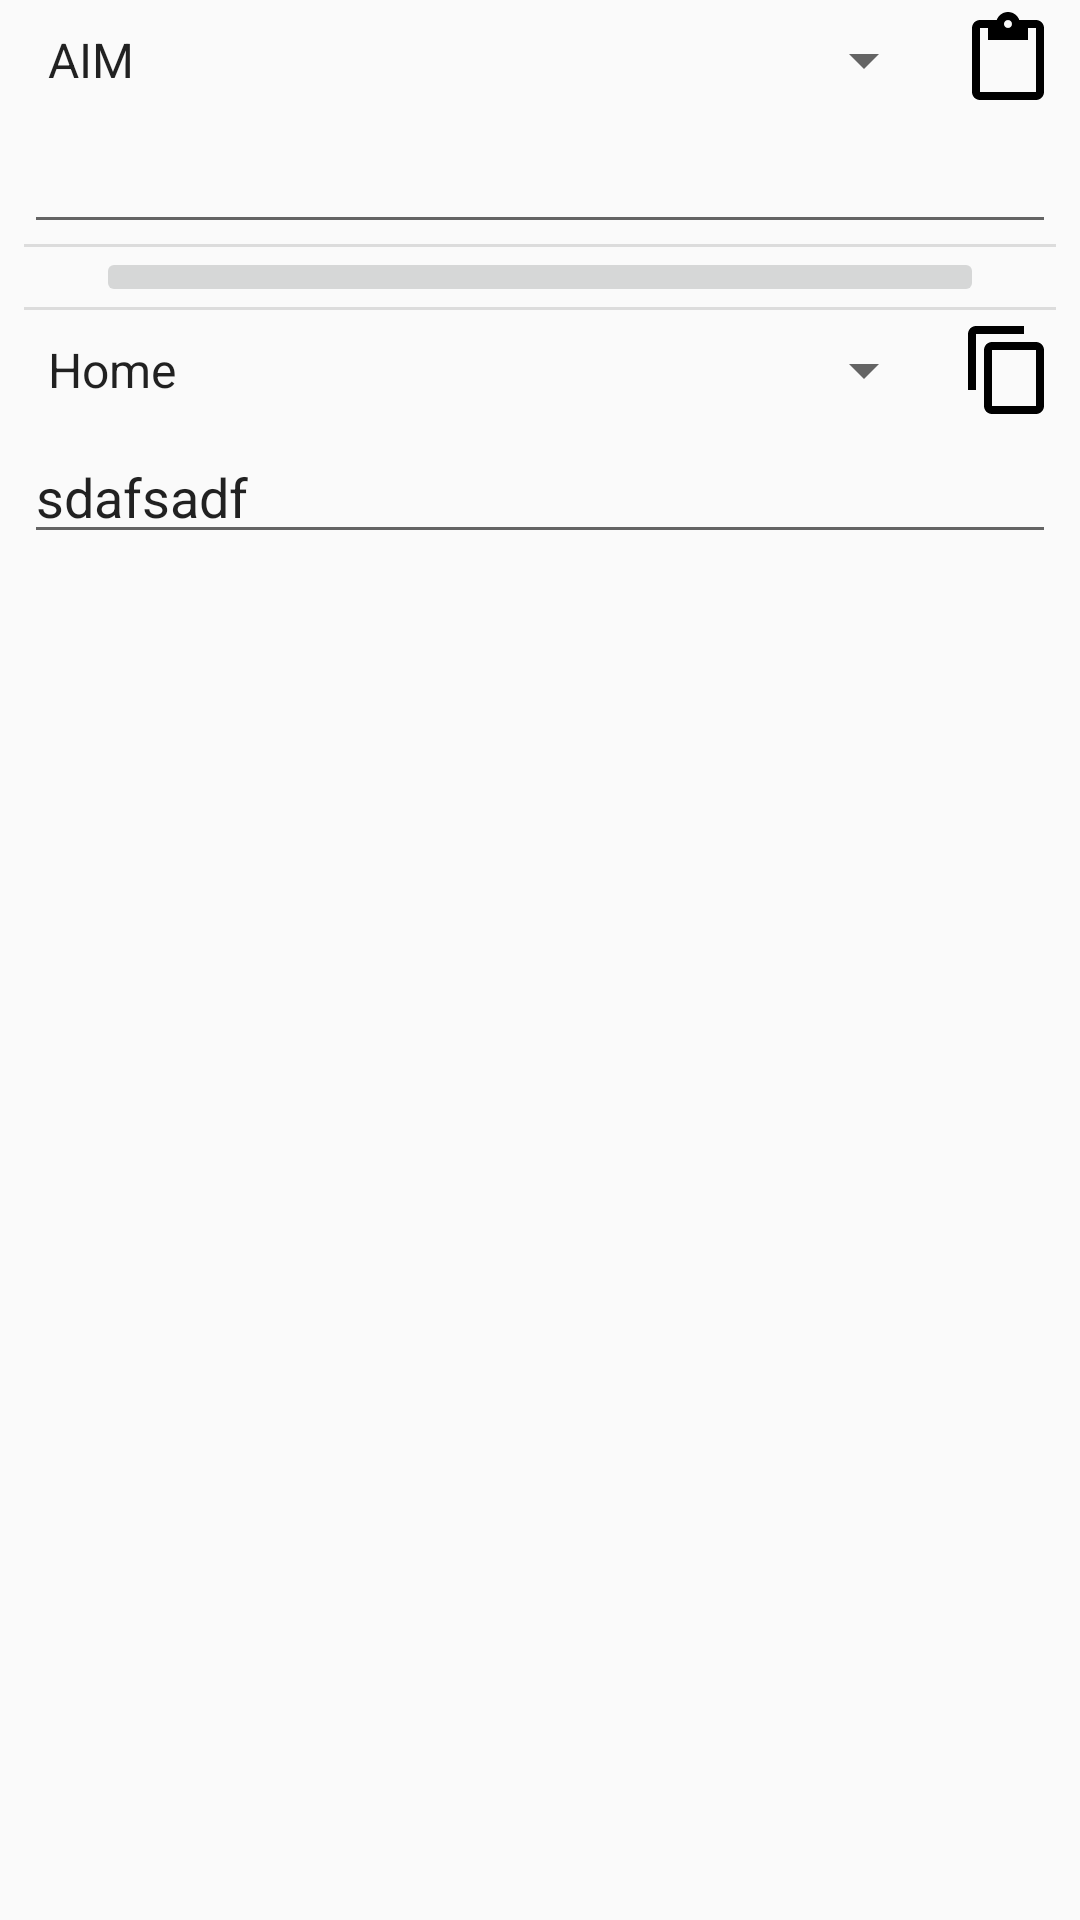

Named icons in this screenshot (1080 x 1920) and their bounding boxes, bbox=(x1, y1, x2, y2):
content paste: bbox=(972, 12, 1044, 100)
